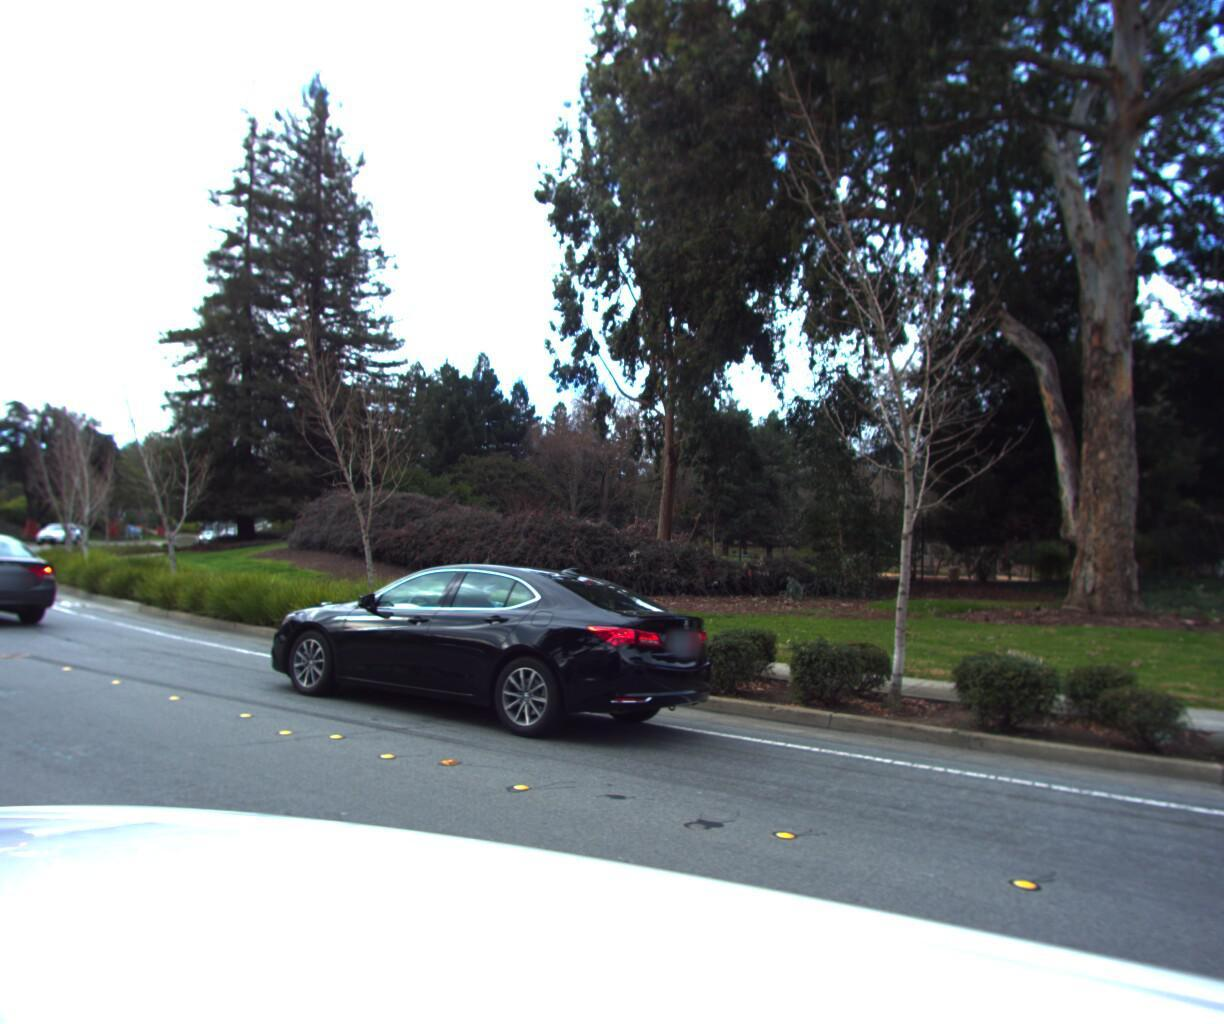car: (265, 548, 750, 768), (0, 525, 67, 642), (33, 519, 83, 546)
